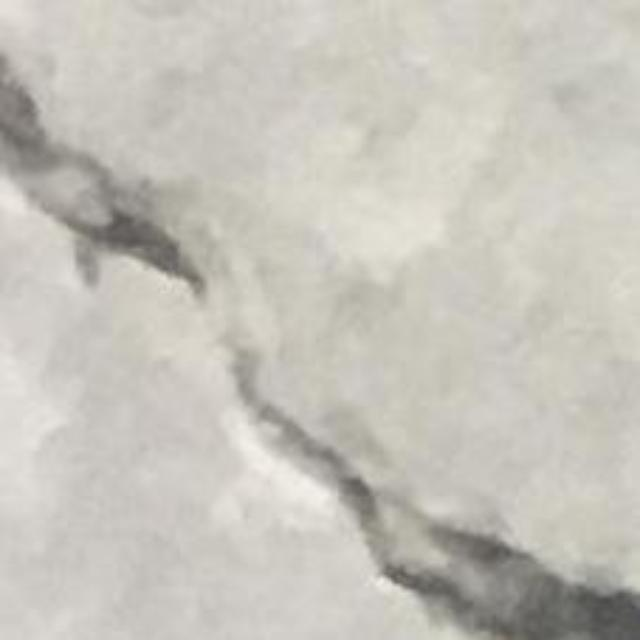crack: (220, 311, 639, 639)
